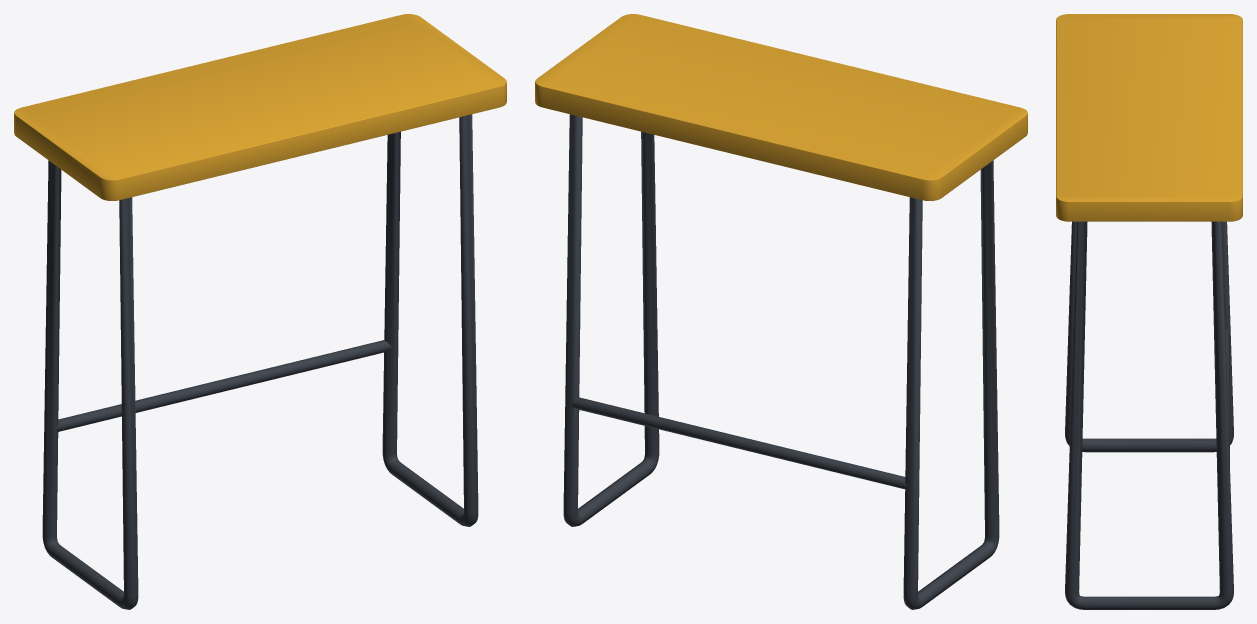
File: mesa_alta_ferro_mostarda.glb
3 renders of one model, left to right at view 1: azimuth 30°, elevation 25°; view 2: azimuth 150°, elevation 25°; view 3: azimuth 270°, elevation 25°, orthographic. The views are drawn at different scales.
Visible parts, largest first — view 1: mesa_alta_ferro_mostarda; view 2: mesa_alta_ferro_mostarda; view 3: mesa_alta_ferro_mostarda.
Boxes of the visible parts, x1=… form: mesa_alta_ferro_mostarda: x1=14, y1=14, x2=506, y2=609; mesa_alta_ferro_mostarda: x1=535, y1=14, x2=1027, y2=609; mesa_alta_ferro_mostarda: x1=1056, y1=14, x2=1242, y2=609.
Size of the model in its own units: 1 by 1.05 by 0.42.
Materials: 1 (1 with a texture image).
